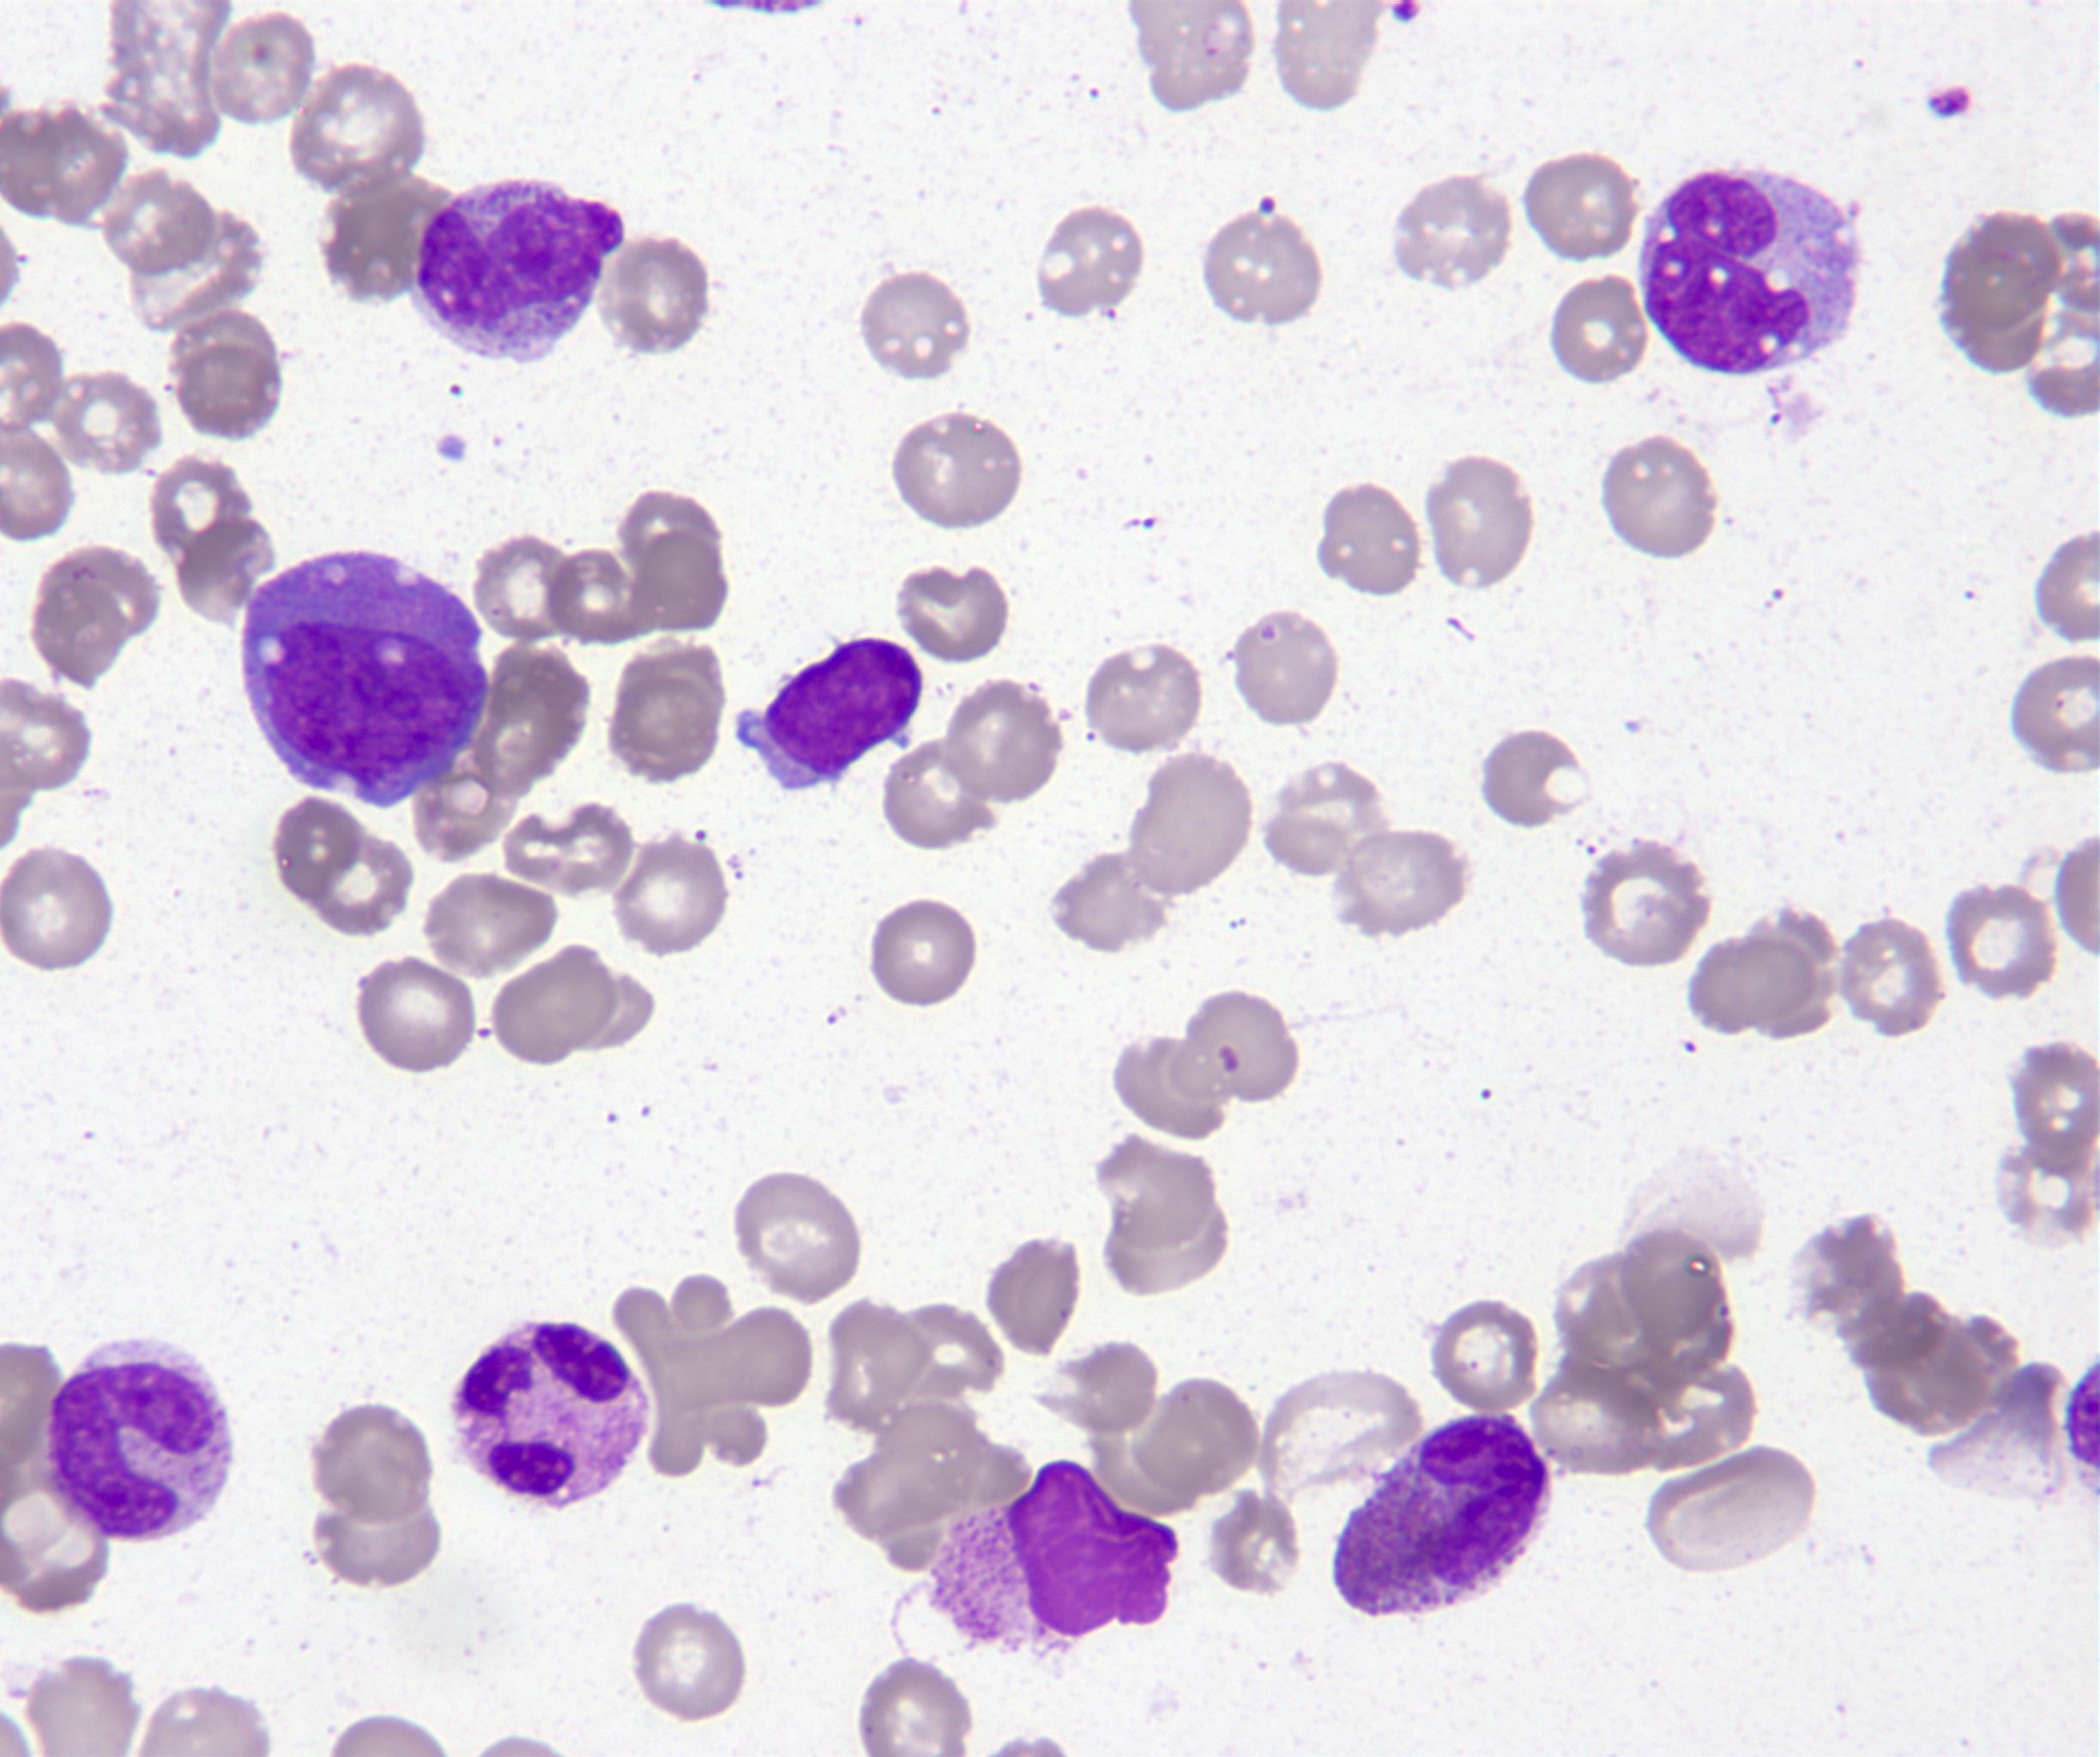3: (239, 546, 495, 813)
32: (727, 632, 931, 797)
4: (410, 169, 630, 373)
42: (1633, 157, 1865, 382)
5: (42, 1330, 241, 1548)
6: (448, 1319, 654, 1513)
E3: (1329, 1406, 1554, 1623)
